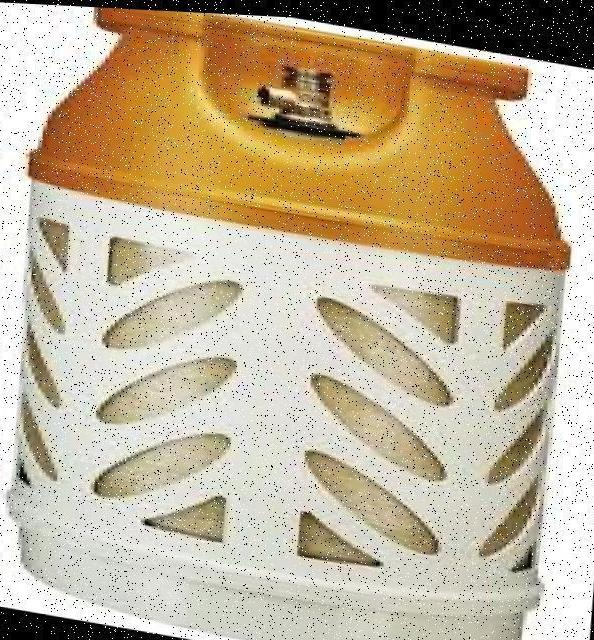cylinder: (1, 0, 594, 640)
